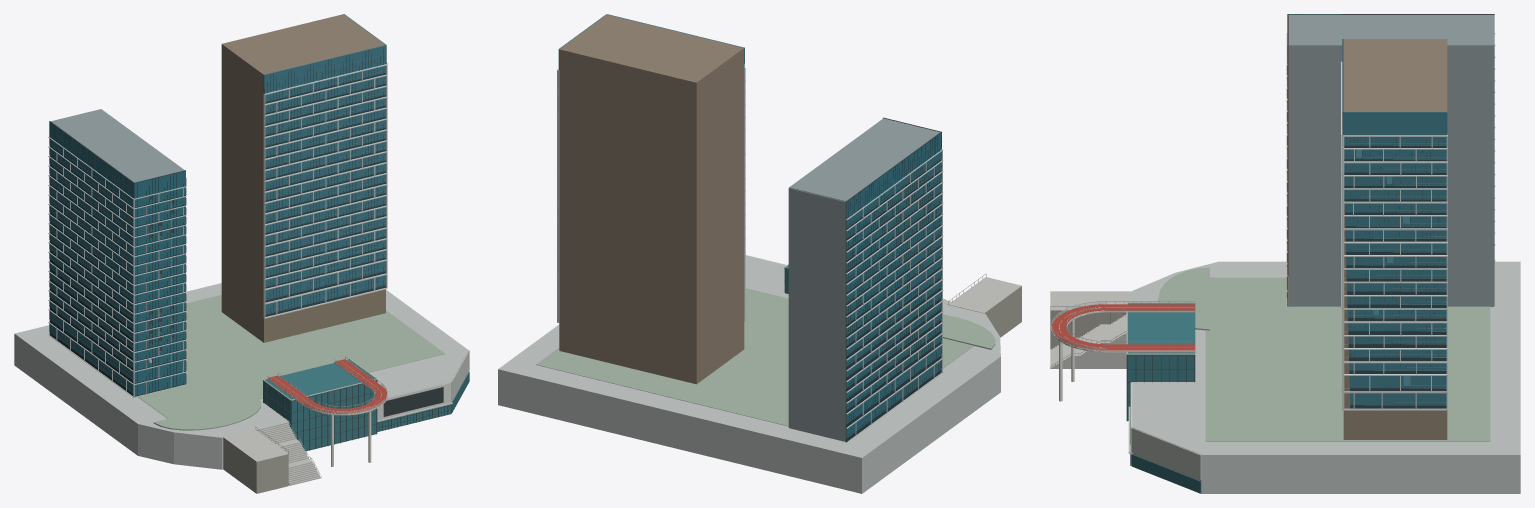
File: light.glb
The picture shows the model from 3 angles, left to right: view 1: azimuth 30°, elevation 25°; view 2: azimuth 150°, elevation 25°; view 3: azimuth 270°, elevation 25°; orthographic projection. The views are drawn at different scales.
Parts seen in each view (by area): view 1: right_APPROX_blue_curtain_glass, left_Approx_blue_closed_glazing, right_HOLD_unknown_sides_roof_depth_base, ASSUMED_terrace_surface, ASSUMED_common_podium_stone, right_APPROX_pale_horizontal_and_staggered_frame, left_Approx_pale_metal_frame, left_Approx_dark_mullion, G_visible_bluegreen_glazing, right_APPROX_dark_spandrel, left_Approx_spandrel_recess, right_APPROX_fine_dark_mullions (+8 smaller); view 2: right_HOLD_unknown_sides_roof_depth_base, ASSUMED_common_podium_stone, left_ASSUMED_left_plain_far_shell, left_Approx_blue_closed_glazing, ASSUMED_terrace_surface, left_Approx_pale_metal_frame, left_Approx_dark_mullion, left_Approx_spandrel_recess, I_pale_stair_stone, right_APPROX_pale_horizontal_and_staggered_frame, I_terrace_warm_stone, left_HOLD_shallow_display_backing_NOT_tower_depth; view 3: left_ASSUMED_left_plain_far_shell, ASSUMED_common_podium_stone, ASSUMED_terrace_surface, right_APPROX_blue_curtain_glass, right_HOLD_unknown_sides_roof_depth_base, right_APPROX_pale_horizontal_and_staggered_frame, right_APPROX_dark_spandrel, G_visible_bluegreen_glazing, right_APPROX_fine_dark_mullions, I_pale_stair_stone, H_observed_red_track, G_observed_white_screen_surround (+6 smaller).
Part boxes in pixels (x1,y1,x2,y2): right_APPROX_blue_curtain_glass: (263,14,386,314); left_Approx_blue_closed_glazing: (49,122,185,395); right_HOLD_unknown_sides_roof_depth_base: (221,14,385,342); ASSUMED_terrace_surface: (138,295,445,430); ASSUMED_common_podium_stone: (14,283,468,469); right_APPROX_pale_horizontal_and_staggered_frame: (263,63,387,318); left_Approx_pale_metal_frame: (48,137,186,397); left_Approx_dark_mullion: (49,121,186,395); G_visible_bluegreen_glazing: (263,359,469,450); right_APPROX_dark_spandrel: (265,73,385,316); left_Approx_spandrel_recess: (49,145,185,396); right_APPROX_fine_dark_mullions: (264,45,386,313); right_HOLD_unknown_sides_roof_depth_base: (559,14,744,384); ASSUMED_common_podium_stone: (498,255,1000,493); left_ASSUMED_left_plain_far_shell: (788,118,939,441); left_Approx_blue_closed_glazing: (846,133,941,438); ASSUMED_terrace_surface: (536,288,995,426); left_Approx_pale_metal_frame: (846,149,943,442); left_Approx_dark_mullion: (846,117,941,437); left_Approx_spandrel_recess: (846,160,941,441); I_pale_stair_stone: (943,277,1021,313); right_APPROX_pale_horizontal_and_staggered_frame: (557,68,745,322); I_terrace_warm_stone: (985,286,1021,337); left_HOLD_shallow_display_backing_NOT_tower_depth: (845,118,941,441); left_ASSUMED_left_plain_far_shell: (1289,15,1494,306); ASSUMED_common_podium_stone: (1132,261,1520,493); ASSUMED_terrace_surface: (1158,267,1490,441); right_APPROX_blue_curtain_glass: (1342,39,1447,404); right_HOLD_unknown_sides_roof_depth_base: (1343,39,1447,439); right_APPROX_pale_horizontal_and_staggered_frame: (1341,61,1447,410); right_APPROX_dark_spandrel: (1344,145,1446,408); G_visible_bluegreen_glazing: (1127,303,1201,493); right_APPROX_fine_dark_mullions: (1342,39,1446,405); I_pale_stair_stone: (1050,291,1132,368); H_observed_red_track: (1051,304,1194,350); G_observed_white_screen_surround: (1130,382,1201,479).
Size of the model in its own units: 106 by 94 by 109.
